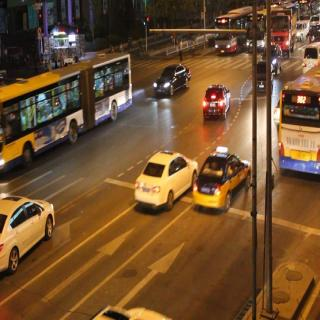BigCar: (2, 44, 131, 178), (280, 75, 320, 184), (210, 12, 246, 54), (267, 11, 299, 54), (248, 13, 269, 53)
Car: (0, 192, 63, 276), (136, 136, 197, 210), (196, 145, 252, 216), (152, 61, 191, 102), (202, 80, 230, 123), (252, 61, 276, 100), (262, 44, 284, 74)
